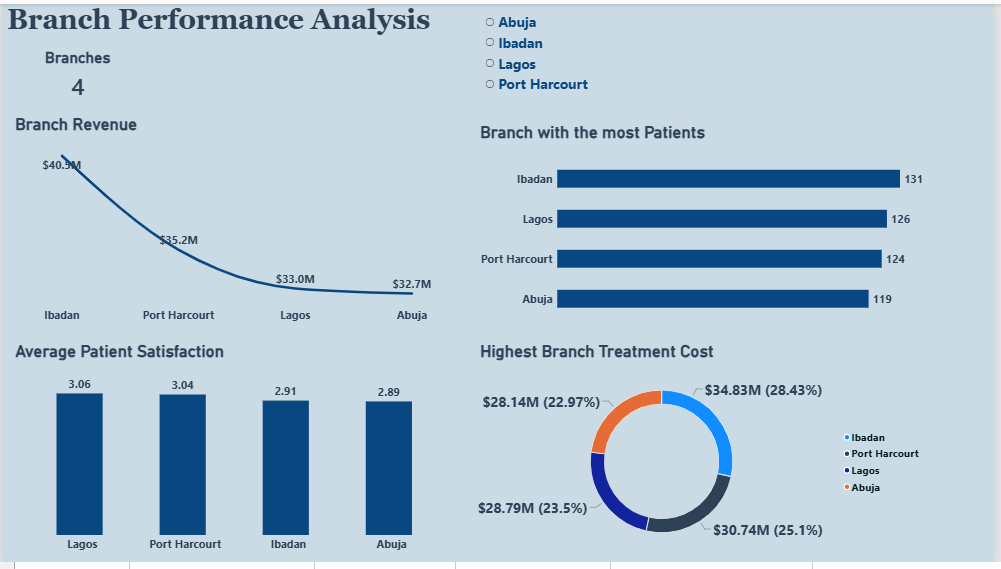

The page's visual inventory and layout, read from the dashboard file:
{"tool":"powerbi","page":{"name":"Branch Performance Dashboard","canvas":[1920,1080],"ordinal":5},"visuals":[{"type":"textbox","box":[10,0,910,88],"z":0},{"type":"cardVisual","title":"Branches","fields":{"Data":["HealthcareData.Total Branches"]},"box":[10,88,274,94],"z":1000},{"type":"lineChart","title":"Branch Revenue","fields":{"Category":["HealthcareData.Hospital_Branch"],"Y":["Sum(HealthcareData.Revenue)"]},"box":[10,200,890,438],"z":2000},{"type":"columnChart","title":"Average Patient Satisfaction","fields":{"Category":["HealthcareData.Hospital_Branch"],"Y":["HealthcareData.AVG Patient Satsifaction"]},"box":[10,638,890,442],"z":3000},{"type":"clusteredBarChart","title":"Branch with the most Patients","fields":{"Category":["HealthcareData.Hospital_Branch"],"Y":["CountNonNull(HealthcareData.Patient_ID)"]},"box":[910,214,890,424],"z":4000},{"type":"donutChart","title":"Highest Branch Treatment Cost","fields":{"Category":["HealthcareData.Hospital_Branch"],"Y":["Sum(HealthcareData.Treatment_Cost)"]},"box":[910,638,890,442],"z":5000},{"type":"listSlicer","fields":{"Values":["HealthcareData.Hospital_Branch"]},"box":[920,0,880,200],"z":6000}]}

Visuals, with their boxes in screenshot pixels (x1, y1, x2, y2), scaled from the page's 1920x1080 canvas onto the 1001x569 screenshot:
textbox: BBox(5, 0, 480, 46)
"Branches" cardVisual: BBox(5, 46, 148, 96)
"Branch Revenue" lineChart: BBox(5, 105, 469, 336)
"Average Patient Satisfaction" columnChart: BBox(5, 336, 469, 568)
"Branch with the most Patients" clusteredBarChart: BBox(474, 113, 938, 336)
"Highest Branch Treatment Cost" donutChart: BBox(474, 336, 938, 568)
listSlicer - HealthcareData.Hospital_Branch: BBox(480, 0, 938, 105)
